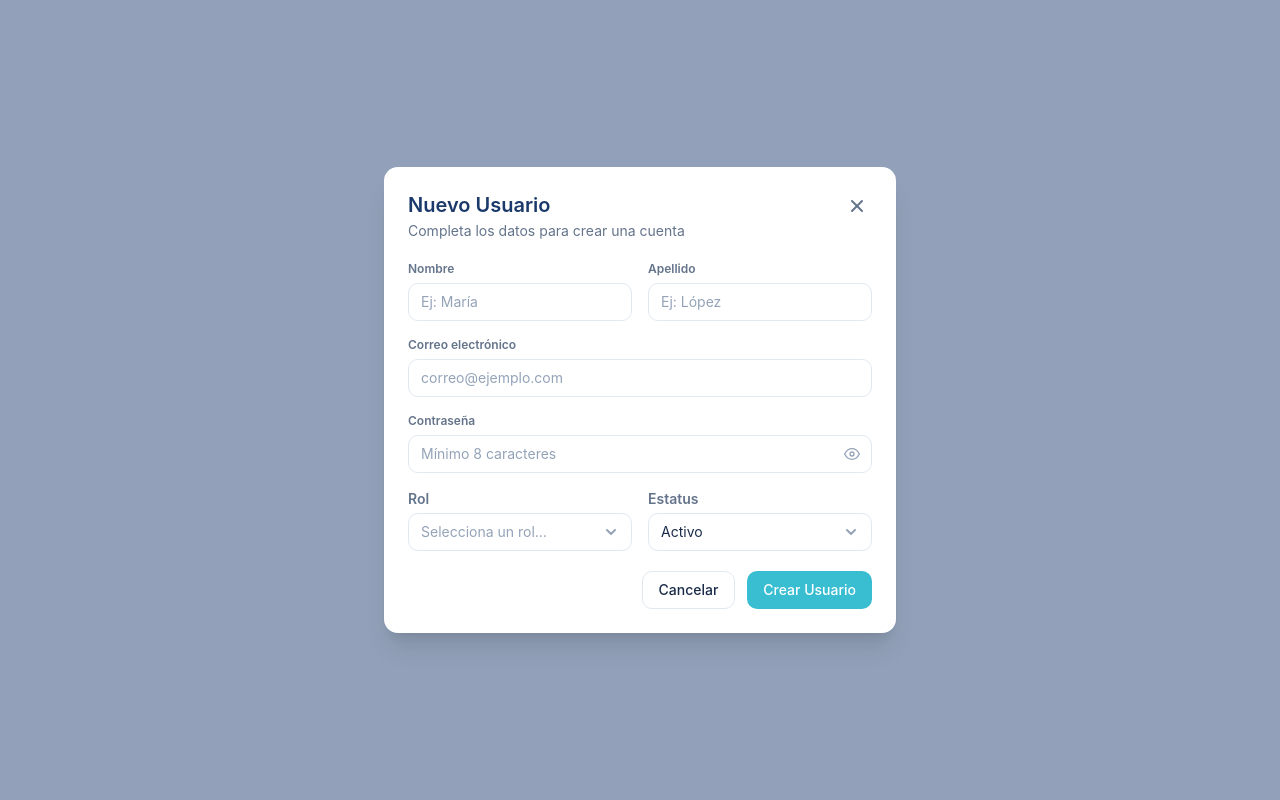
CreateUserModal › muestra error cuando la contraseña tiene menos de 8 caracteres
This screenshot has width=1280, height=800.
Type "123" into the password field labelled "Contraseña" at (640, 454), box [408,435,872,473]
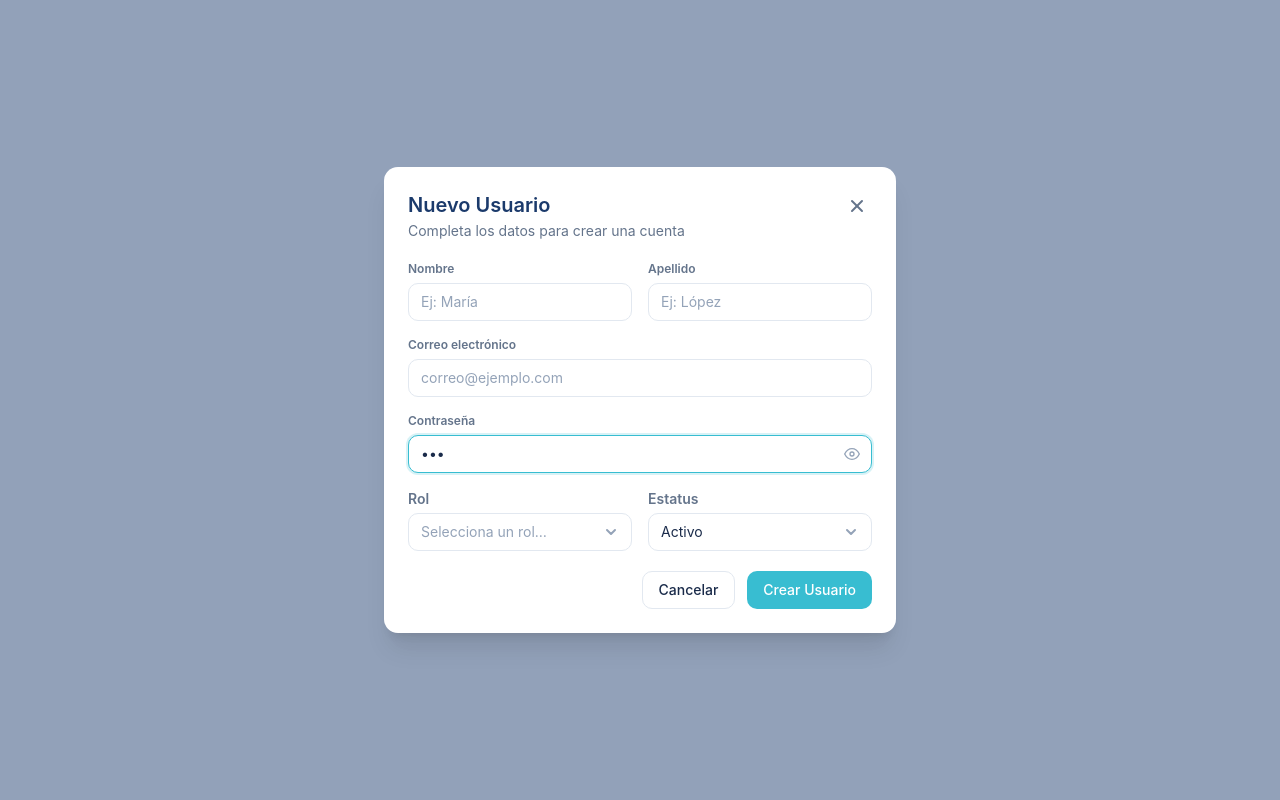
Click the button "Crear Usuario" at (810, 590), box [747,571,872,609]
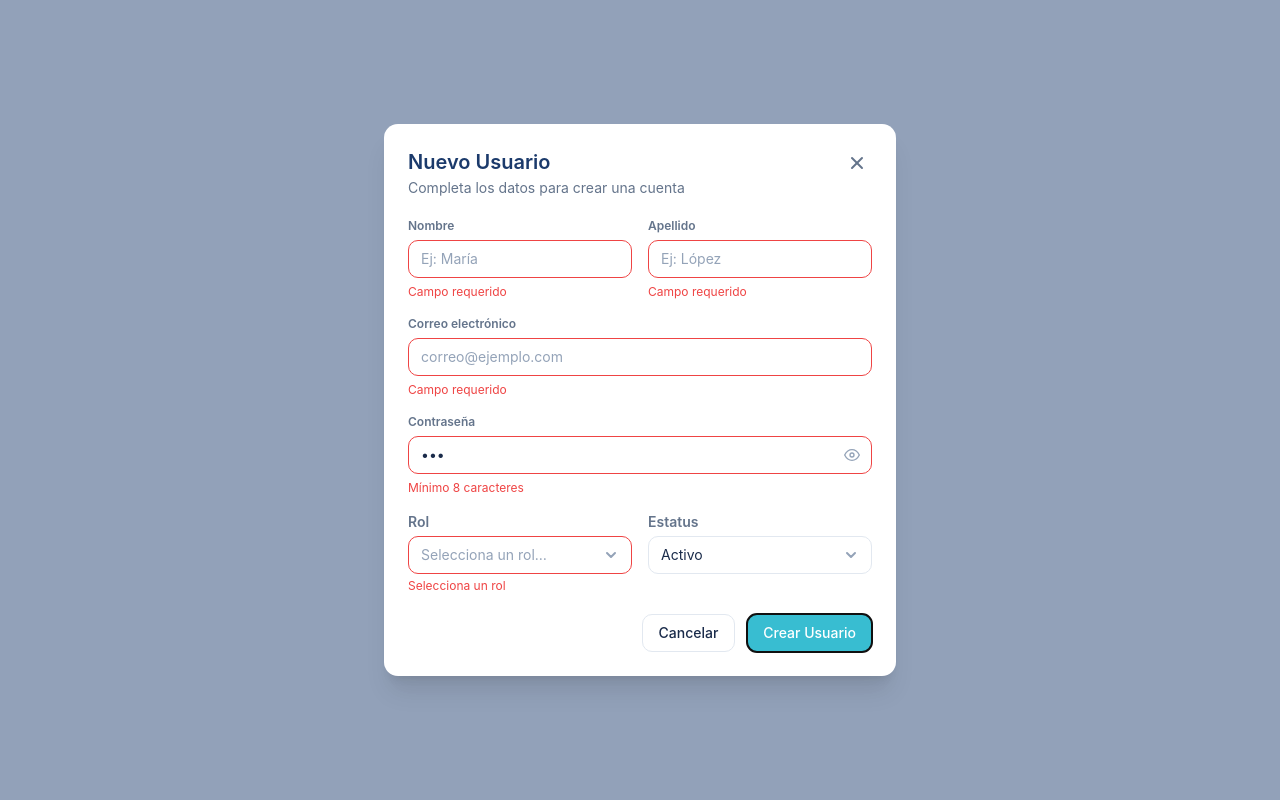
Expected: the text "Mínimo 8 caracteres" is shown, [408,480,524,495]
